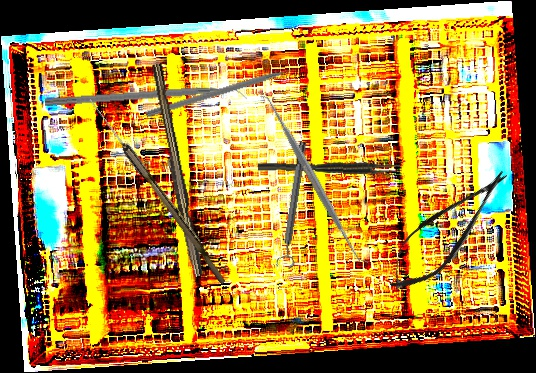Chopper: (145, 63, 306, 127), (44, 83, 248, 118)
Fixation Ring: (274, 140, 314, 270)
Micro Scissor: (374, 155, 522, 304)
Scalpel Handle: (145, 63, 207, 278)
Spatula Surgical: (256, 87, 372, 272)
Surgical Spoon: (84, 96, 231, 285)
Tissue Forceps: (257, 158, 401, 176)
